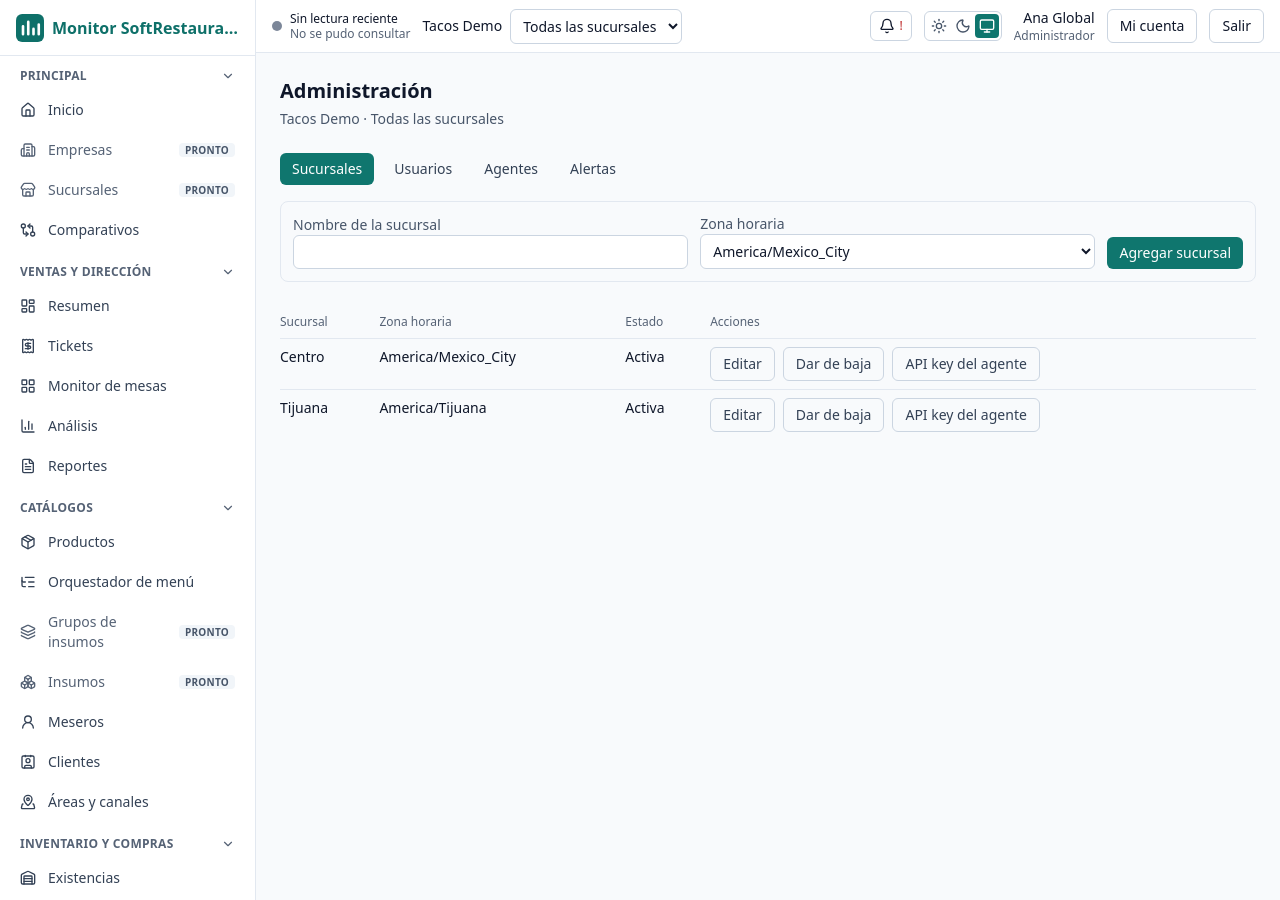
Sucursales › API key: avisa que corta al agente, la muestra UNA vez, no se cierra sola y no queda en ningún lado
Click the button "API key del agente" in the row of "Centro" at (966, 364), box [892,347,1040,381]
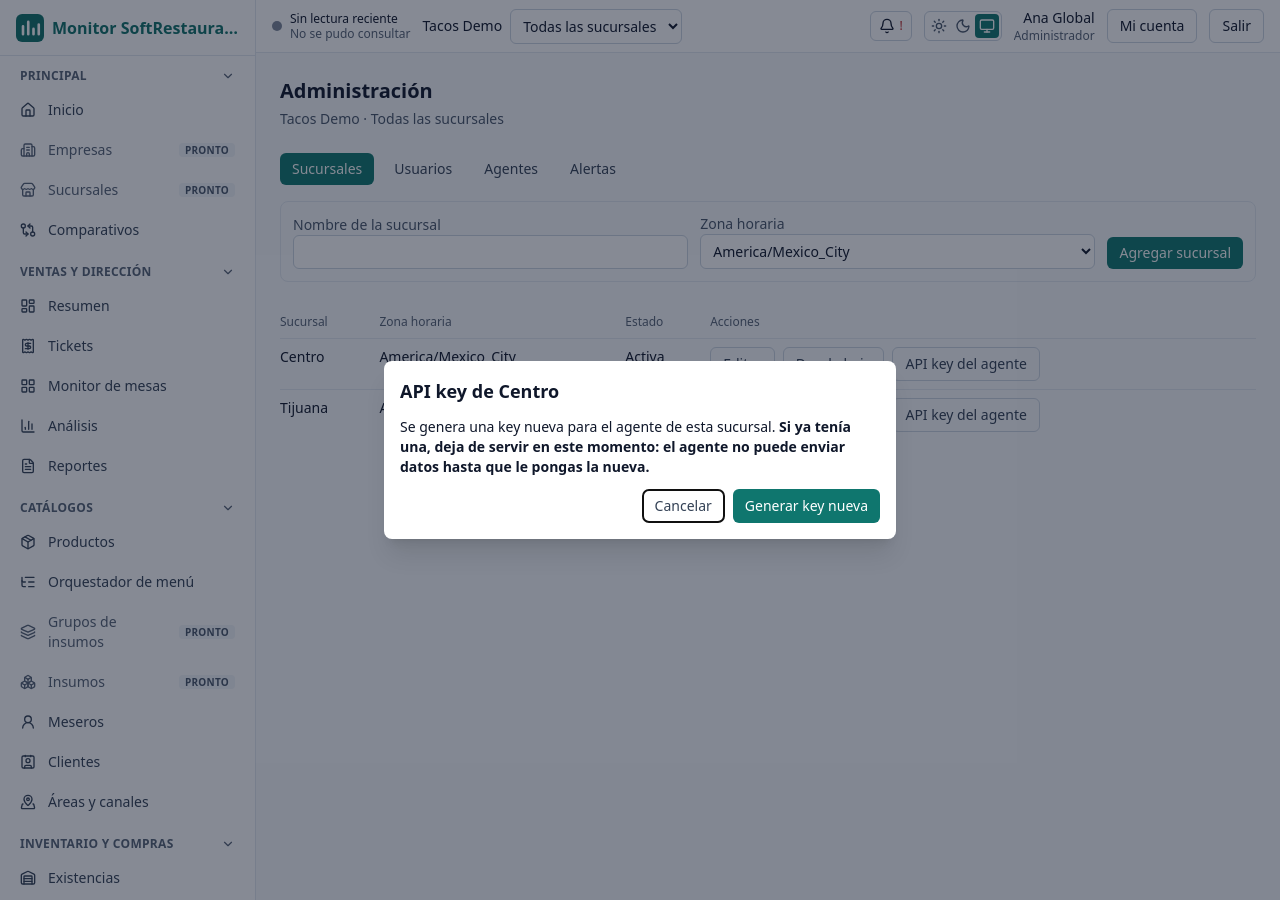
Expected: the dialog "API key de Centro" shows "deja de servir en este momento", [400,417,851,476]
Click the button "Generar key nueva" at (806, 506), box [733,489,880,523]
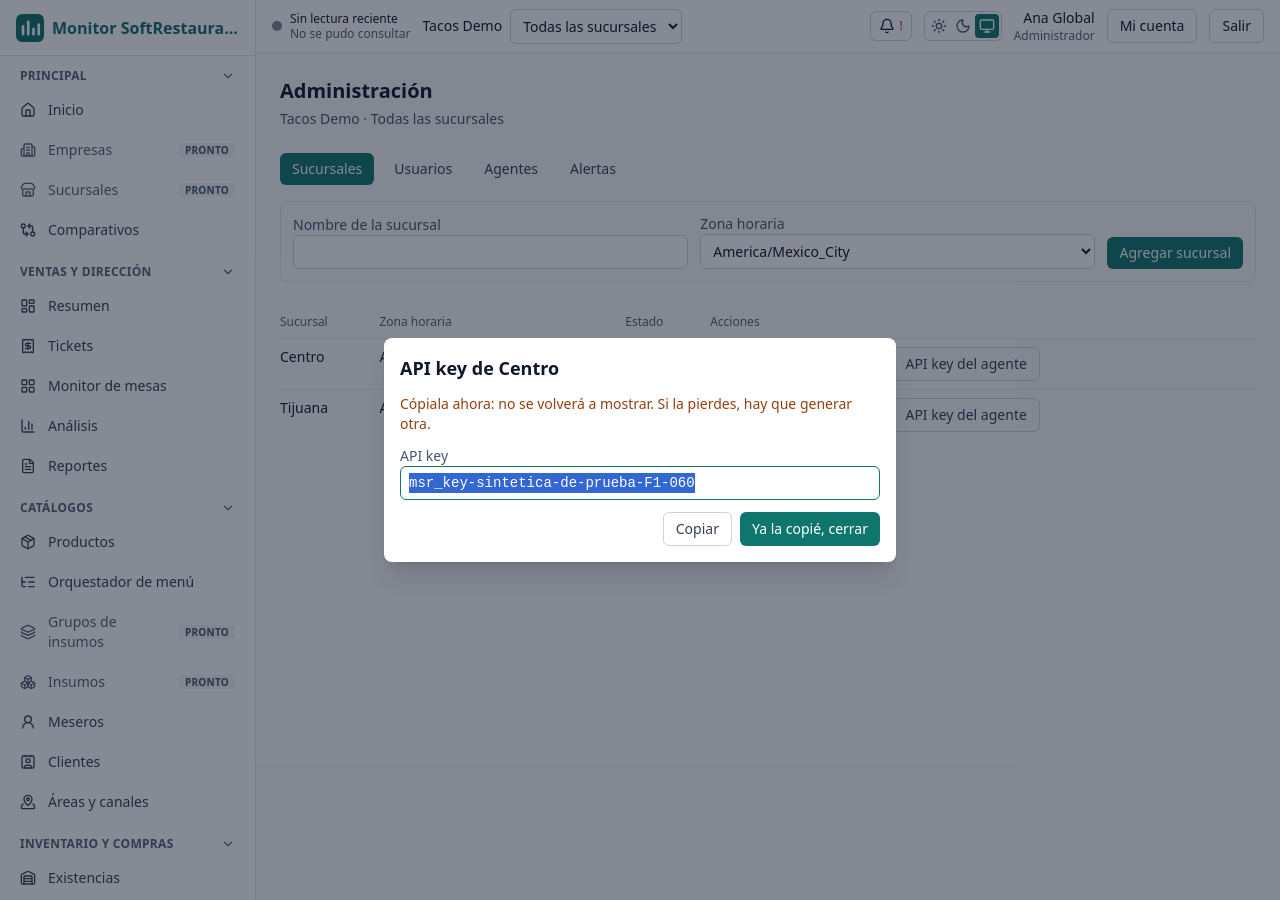
Expected: the field showing "msr_key-sintetica-de-prueba-F1-060" is shown, [400,466,880,500]
Note: Ni Escape ni un clic afuera la cierran: sólo el botón.
Press Escape
Expected: the text "no se volverá a mostrar" is shown, [400,394,852,433]
Click the button "Ya la copié, cerrar" at (810, 529), box [740,512,880,546]
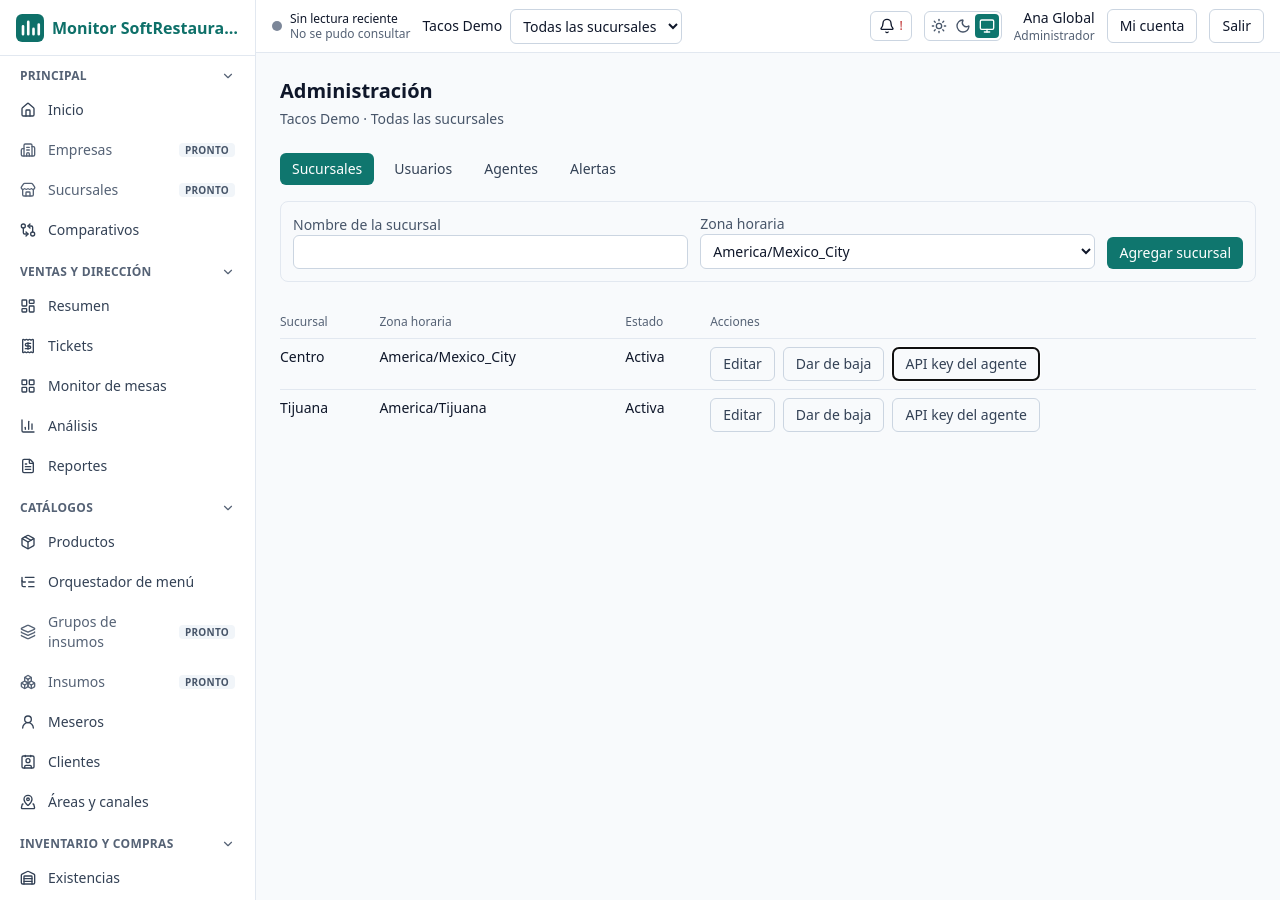
Expected: the text "msr_key-sintetica-de-prueba-F1-060" is not shown
Expected: the dialog is gone
